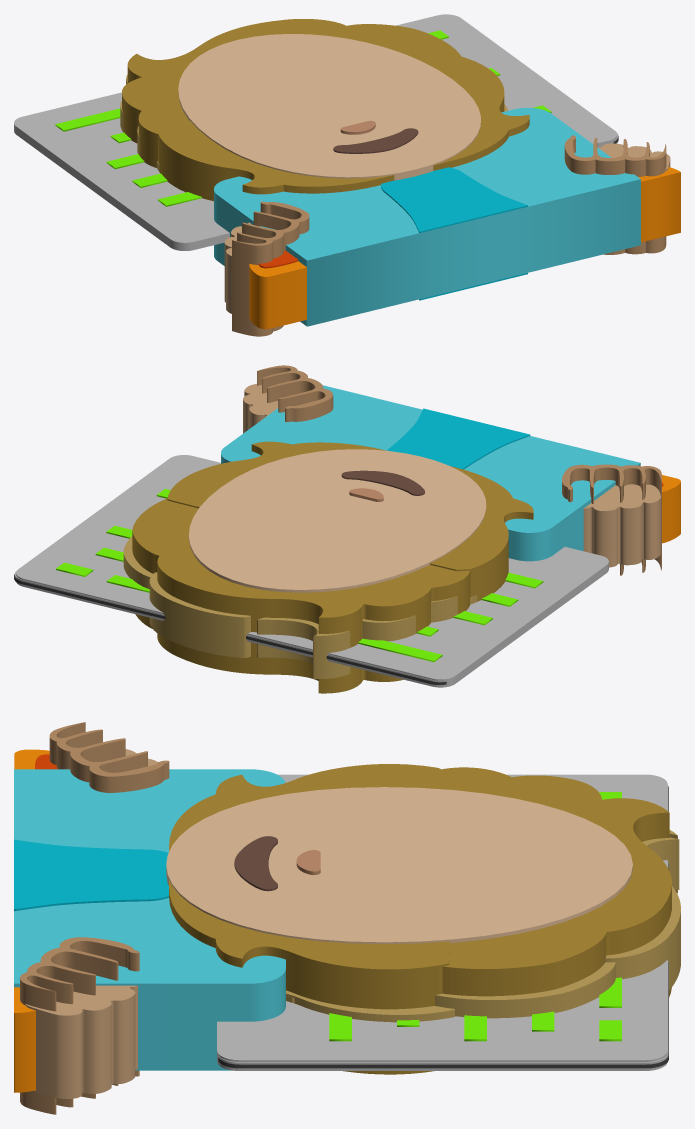
The model's file is emoji_u1f9d1_1f3fc_200d_1f4bb.glb.
The picture shows the model from 3 angles, top to bottom: view 1: azimuth 30°, elevation 25°; view 2: azimuth 150°, elevation 25°; view 3: azimuth 270°, elevation 25°; orthographic projection. The views are drawn at different scales.
Visible parts, largest first — view 1: emoji_u1f9d1_1f3fc_200d_1f4bb; view 2: emoji_u1f9d1_1f3fc_200d_1f4bb; view 3: emoji_u1f9d1_1f3fc_200d_1f4bb.
Boxes of the visible parts, bbox=[...] form: emoji_u1f9d1_1f3fc_200d_1f4bb: bbox=[14, 14, 680, 336]; emoji_u1f9d1_1f3fc_200d_1f4bb: bbox=[14, 365, 680, 693]; emoji_u1f9d1_1f3fc_200d_1f4bb: bbox=[14, 722, 680, 1114].
Size of the model in its own units: 0.0339 by 0.0068 by 0.0334.
